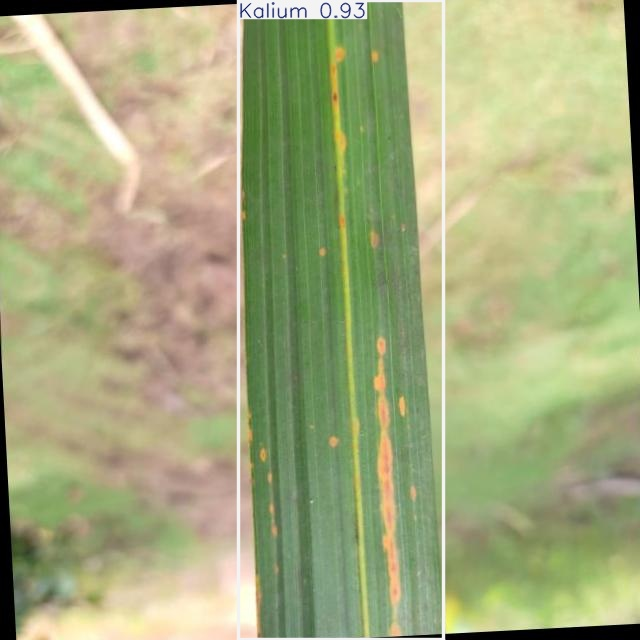Kalium: (239, 0, 444, 640)
